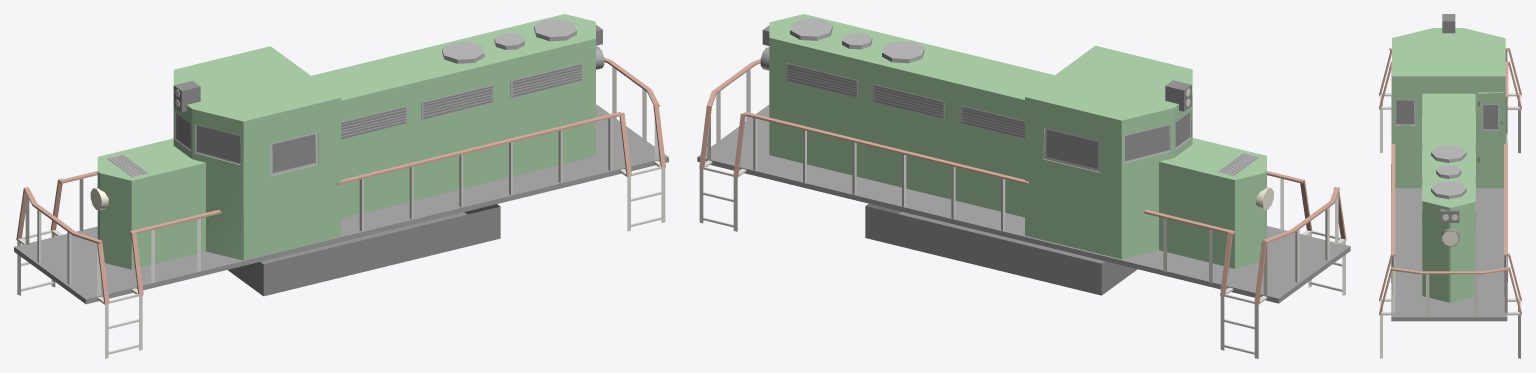
The model's file is props54.fbx.
The picture shows the model from 3 angles, left to right: view 1: azimuth 30°, elevation 25°; view 2: azimuth 150°, elevation 25°; view 3: azimuth 270°, elevation 25°; orthographic projection. The views are drawn at different scales.
Parts seen in each view (by area): view 1: Cylinder_2; view 2: Cylinder_2; view 3: Cylinder_2.
Part boxes in pixels (<box>): Cylinder_2: <box>14,14,668,358</box>; Cylinder_2: <box>697,14,1350,358</box>; Cylinder_2: <box>1379,14,1521,358</box>.
Bounding box in the file's own units: 1521 × 526 × 400.
